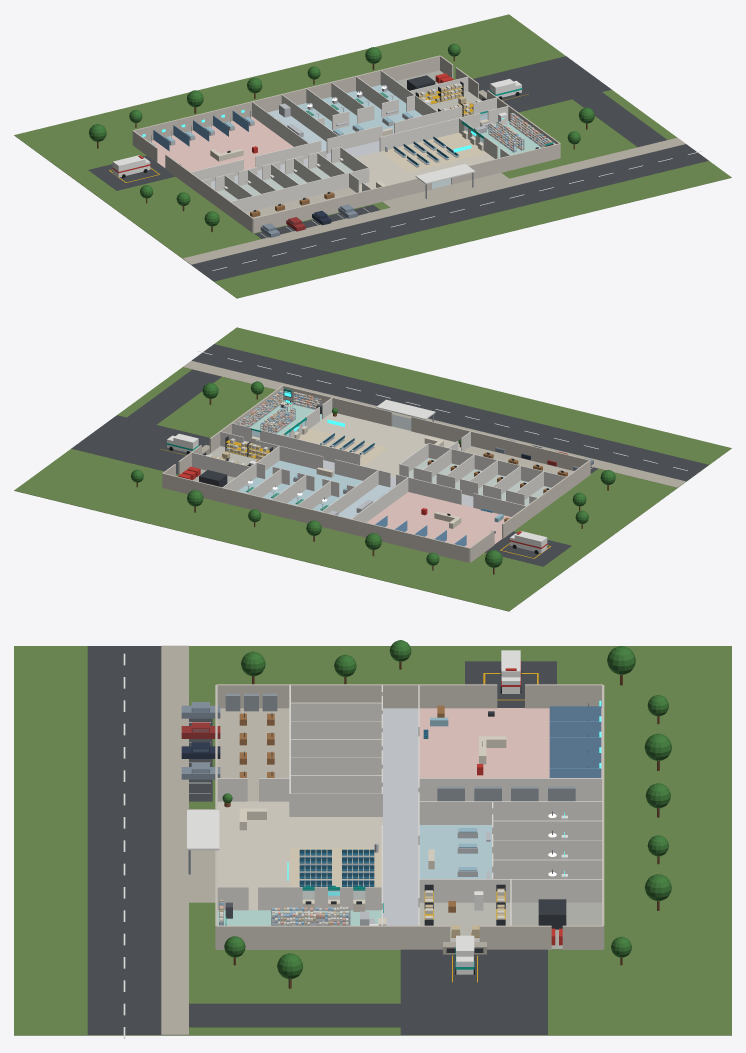
File: unidad_medica.glb
3 views of the same model, one above another, from view 1: azimuth 30°, elevation 25°; view 2: azimuth 150°, elevation 25°; view 3: azimuth 270°, elevation 25° (orthographic). The views are drawn at different scales.
Visible parts, largest first — view 1: exterior__Pasto, exterior__Asfalto, muros__Muro_exterior, exterior__Banqueta, consulta__Muro, quirofano__Muro, urgencias__Piso_Urgencias, exterior__Follaje, urgencias__Muro, espera__Piso_Sala_de_espera_de_farmacia, quirofano__Piso_Quirófanos_y_tococirugía, espera__Muro (+15 smaller); view 2: exterior__Pasto, exterior__Asfalto, muros__Muro_exterior, consulta__Muro, quirofano__Muro, urgencias__Piso_Urgencias, exterior__Banqueta, vestibulo__Piso_Vestíbulo, urgencias__Muro, exterior__Follaje, quirofano__Piso_Quirófanos_y_tococirugía, farmacia__Muro (+13 smaller); view 3: exterior__Pasto, exterior__Asfalto, muros__Muro_exterior, quirofano__Muro, exterior__Banqueta, consulta__Muro, urgencias__Piso_Urgencias, pasillo__Piso_Pasillo_principal, vestibulo__Piso_Vestíbulo, exterior__Follaje, admin__Piso_Administración_y_archivo, urgencias__Azul_cortina (+21 smaller).
Part boxes in pixels (x1,y1,x2,y2): exterior__Pasto: (14,14,731,298); exterior__Asfalto: (88,56,708,281); muros__Muro_exterior: (132,55,560,232); exterior__Banqueta: (183,90,685,264); consulta__Muro: (202,147,369,212); quirofano__Muro: (281,70,437,149); urgencias__Piso_Urgencias: (150,116,293,171); exterior__Follaje: (89,43,594,226); urgencias__Muro: (190,101,309,181); espera__Piso_Sala_de_espera_de_farmacia: (380,132,486,172); quirofano__Piso_Quirófanos_y_tococirugía: (297,85,422,134); espera__Muro: (379,118,458,151); exterior__Pasto: (14,327,731,611); exterior__Asfalto: (71,344,708,566); muros__Muro_exterior: (162,385,590,562); consulta__Muro: (399,443,566,505); quirofano__Muro: (222,446,378,513); urgencias__Piso_Urgencias: (367,492,510,547); exterior__Banqueta: (183,360,685,487); vestibulo__Piso_Vestíbulo: (310,412,460,453); urgencias__Muro: (351,477,526,522); exterior__Follaje: (131,381,615,567); quirofano__Piso_Quirófanos_y_tococirugía: (238,460,362,511); farmacia__Muro: (231,397,332,445); exterior__Pasto: (14,646,731,1035); exterior__Asfalto: (87,646,556,1034); muros__Muro_exterior: (215,684,604,949); quirofano__Muro: (418,801,602,902); exterior__Banqueta: (161,645,486,1034); consulta__Muro: (289,685,382,816); urgencias__Piso_Urgencias: (419,708,601,777); pasillo__Piso_Pasillo_principal: (382,708,418,925); vestibulo__Piso_Vestíbulo: (217,801,289,910); exterior__Follaje: (224,640,671,979); admin__Piso_Administración_y_archivo: (217,708,289,801); urgencias__Azul_cortina: (549,706,601,777).
Bounding box in the file's own units: 101 × 4.56 × 78.
